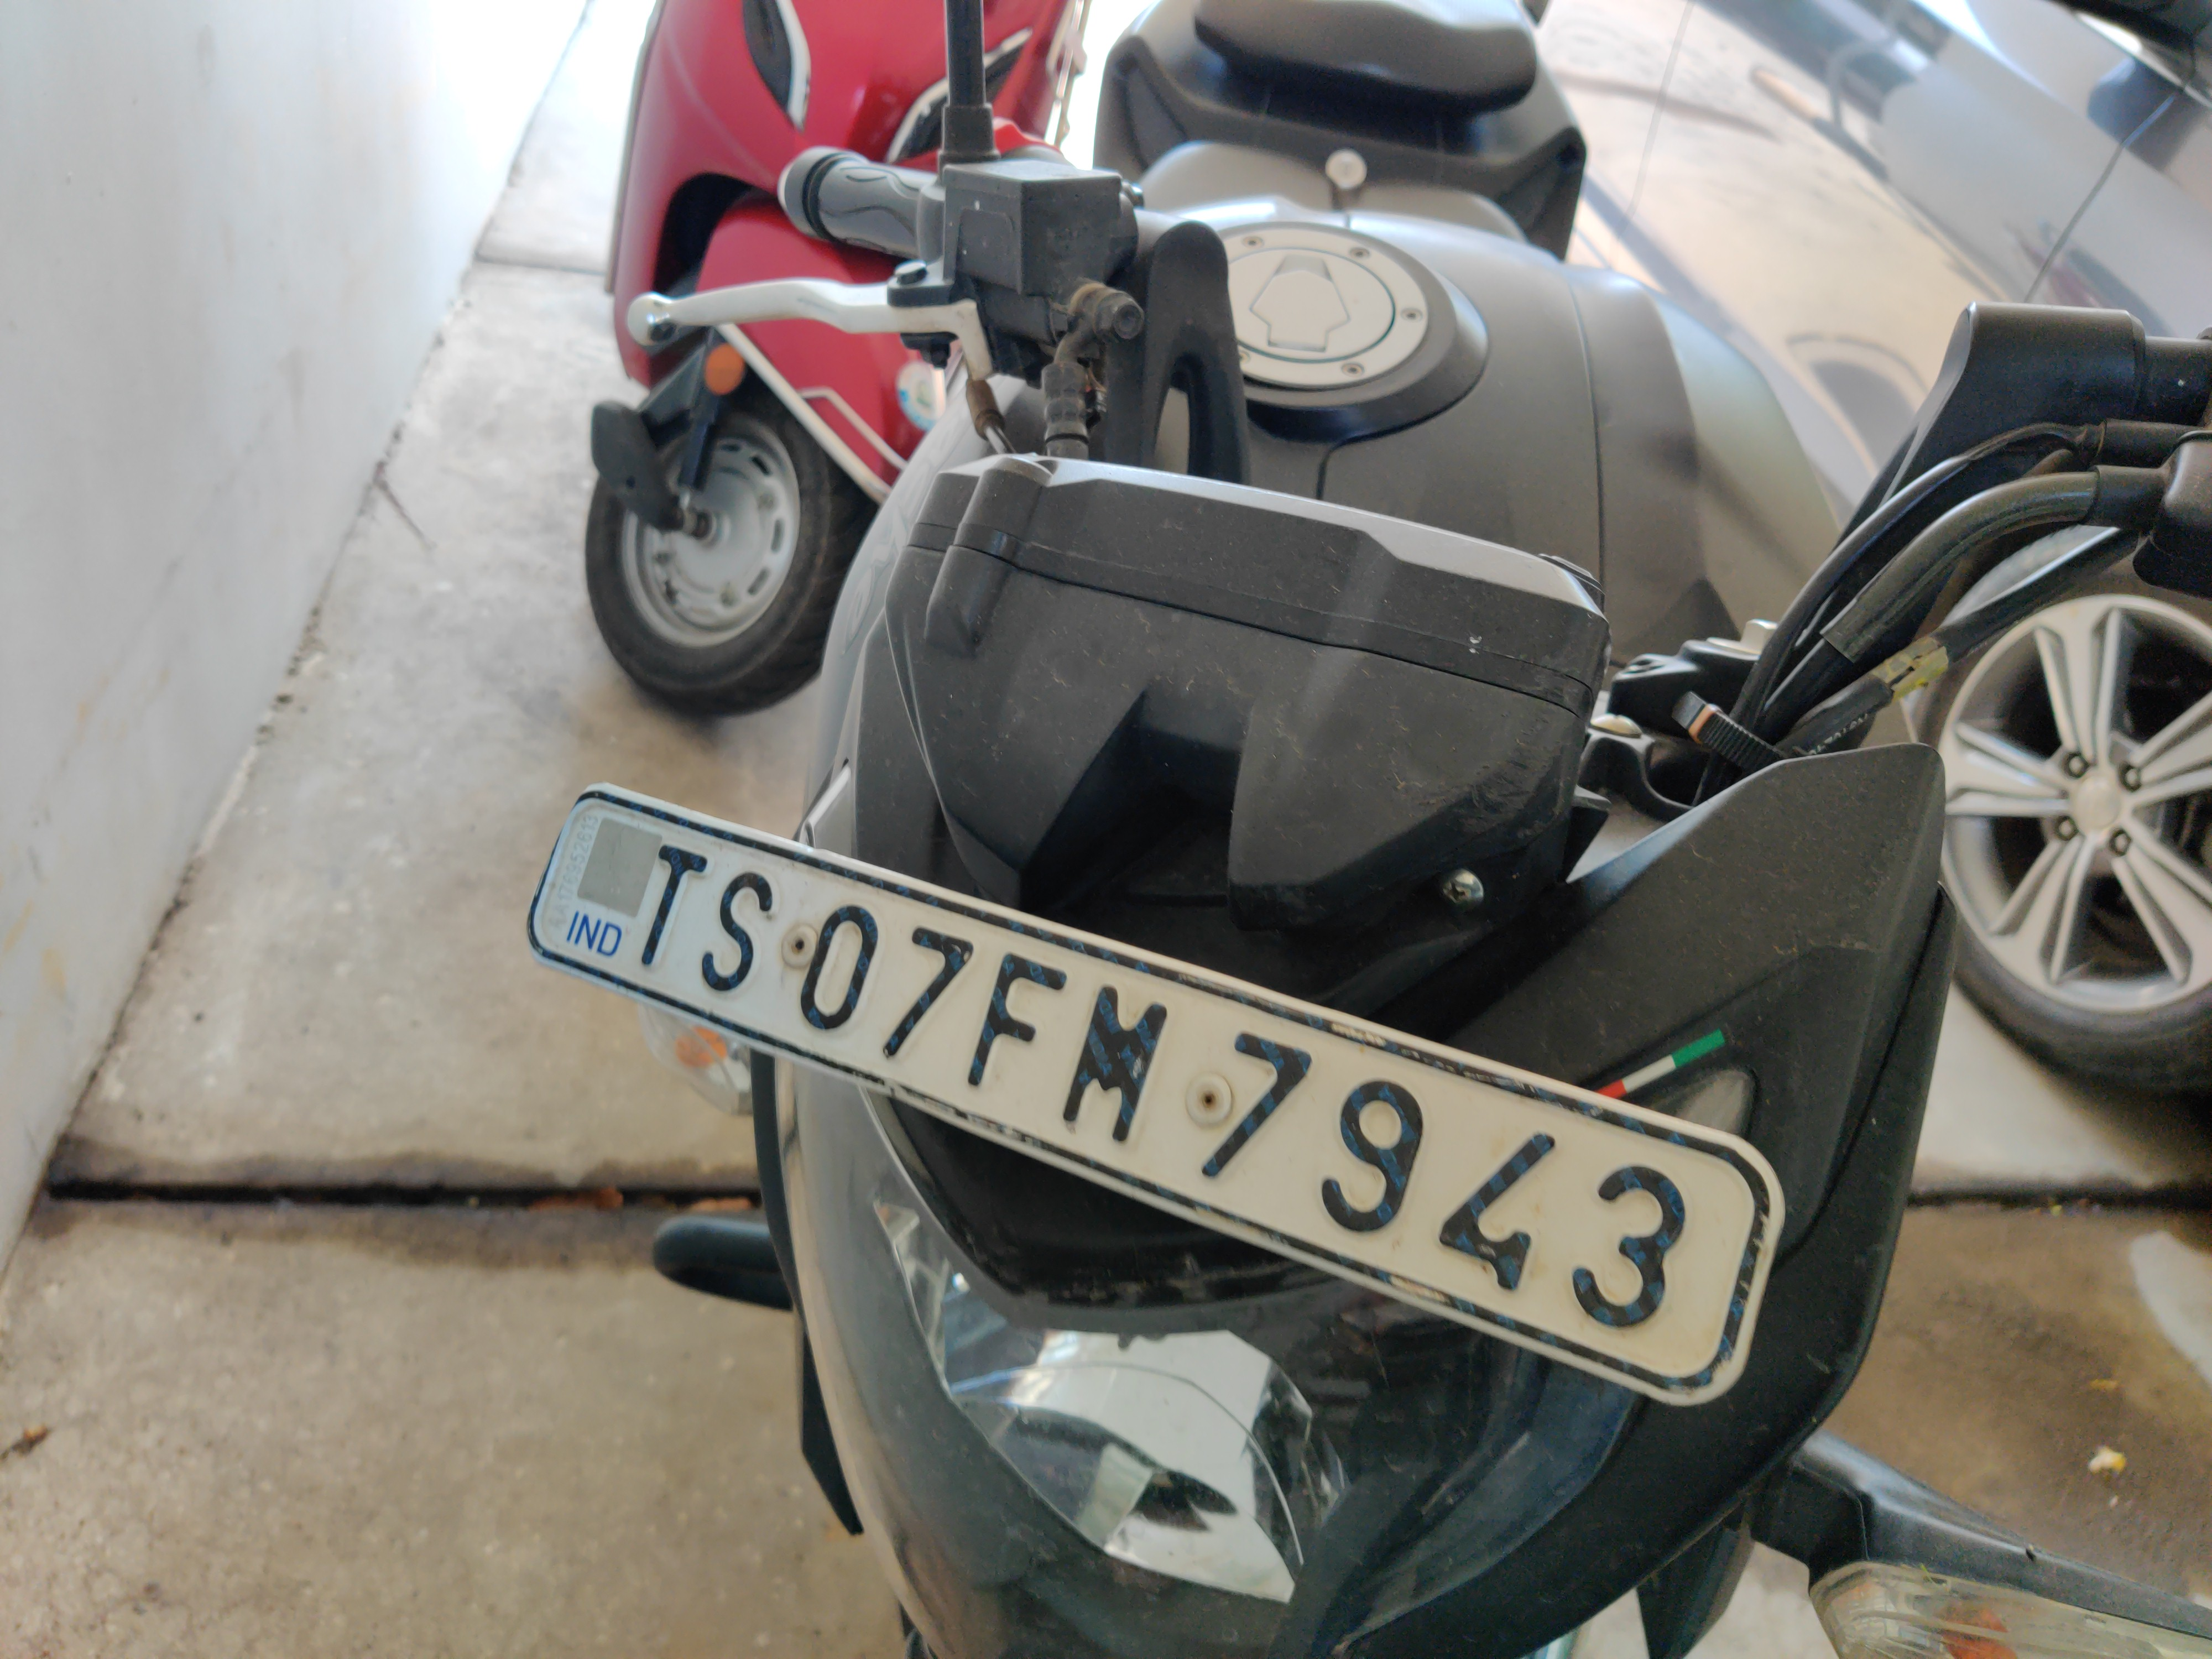plate: (493, 771, 1807, 1426)
